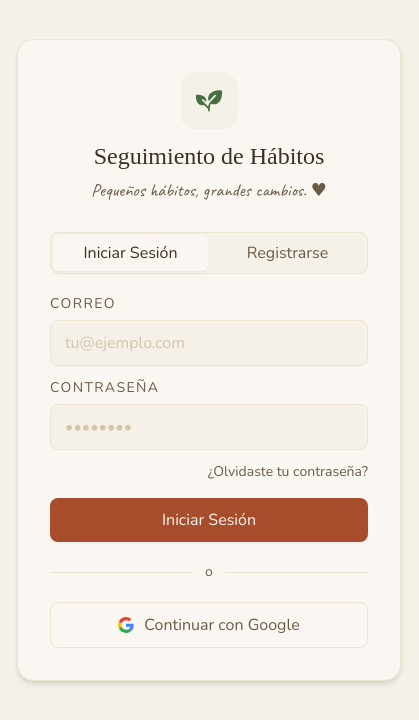
Test: Login › requires an email before sending a password reset
The width and height of the screenshot is (419, 720).
Click the button "¿Olvidaste tu contraseña?" at (288, 472), box [208,462,368,482]
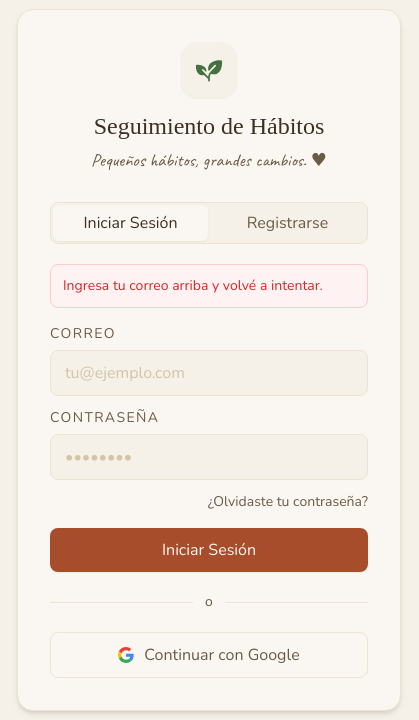
Now the text "Ingresa tu correo arriba y volvé a intentar." is shown, box [50,264,368,308]
